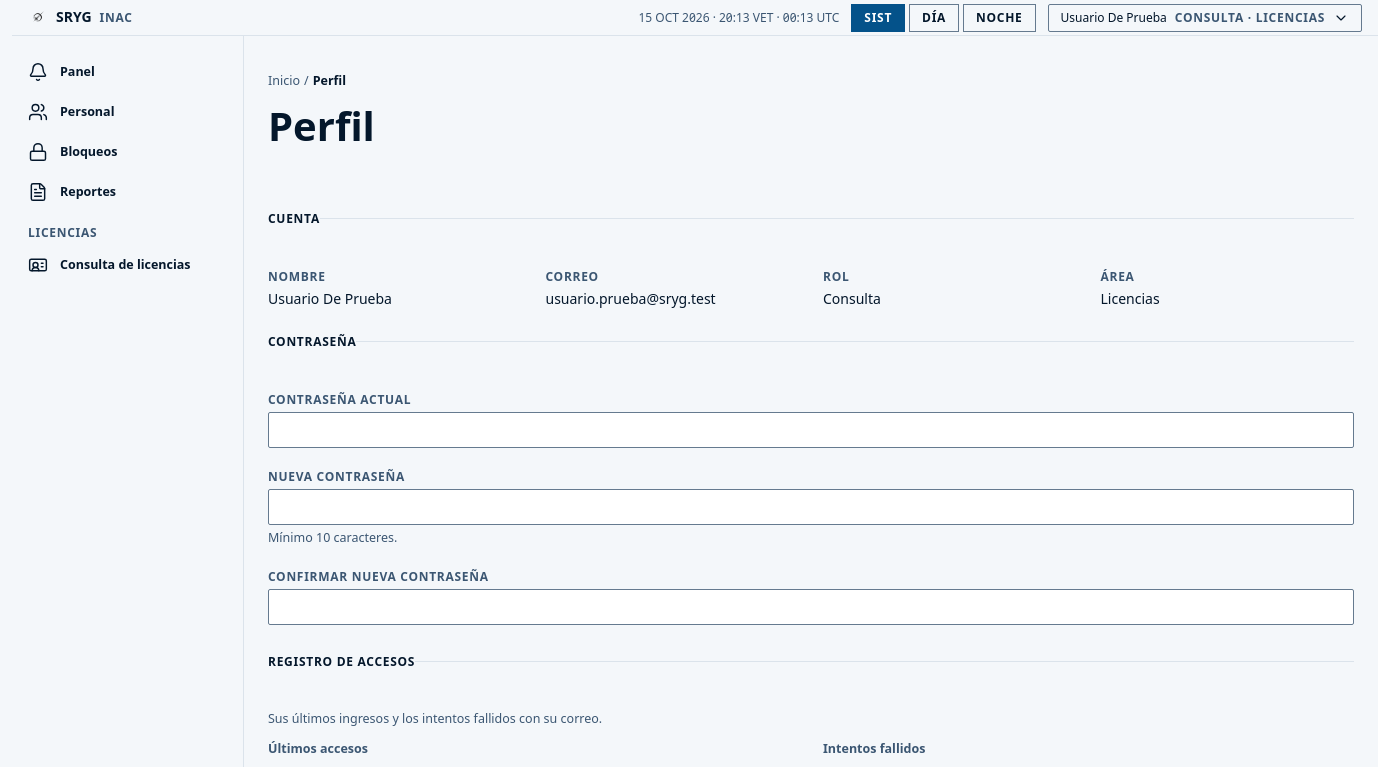
Scenario: Perfil (AUTH-08, D4, D23) › shows a wrong current password on its field, without signing out
Type "no-es-esta" into the password field labelled "Contraseña actual" at x=811, y=430, box [268,412,1354,448]
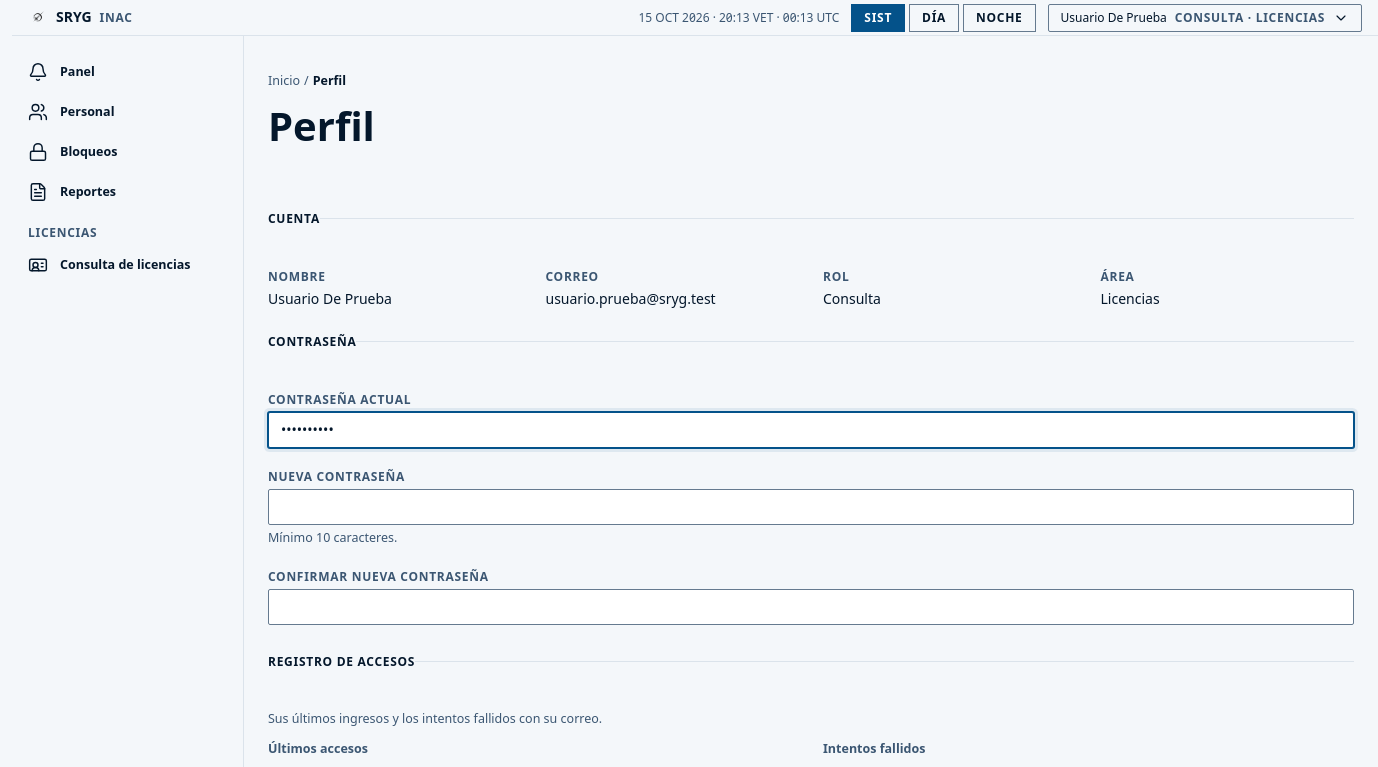
Type "una-clave-larga" into the password field labelled "Nueva contraseña" at x=811, y=507, box [268,489,1354,525]
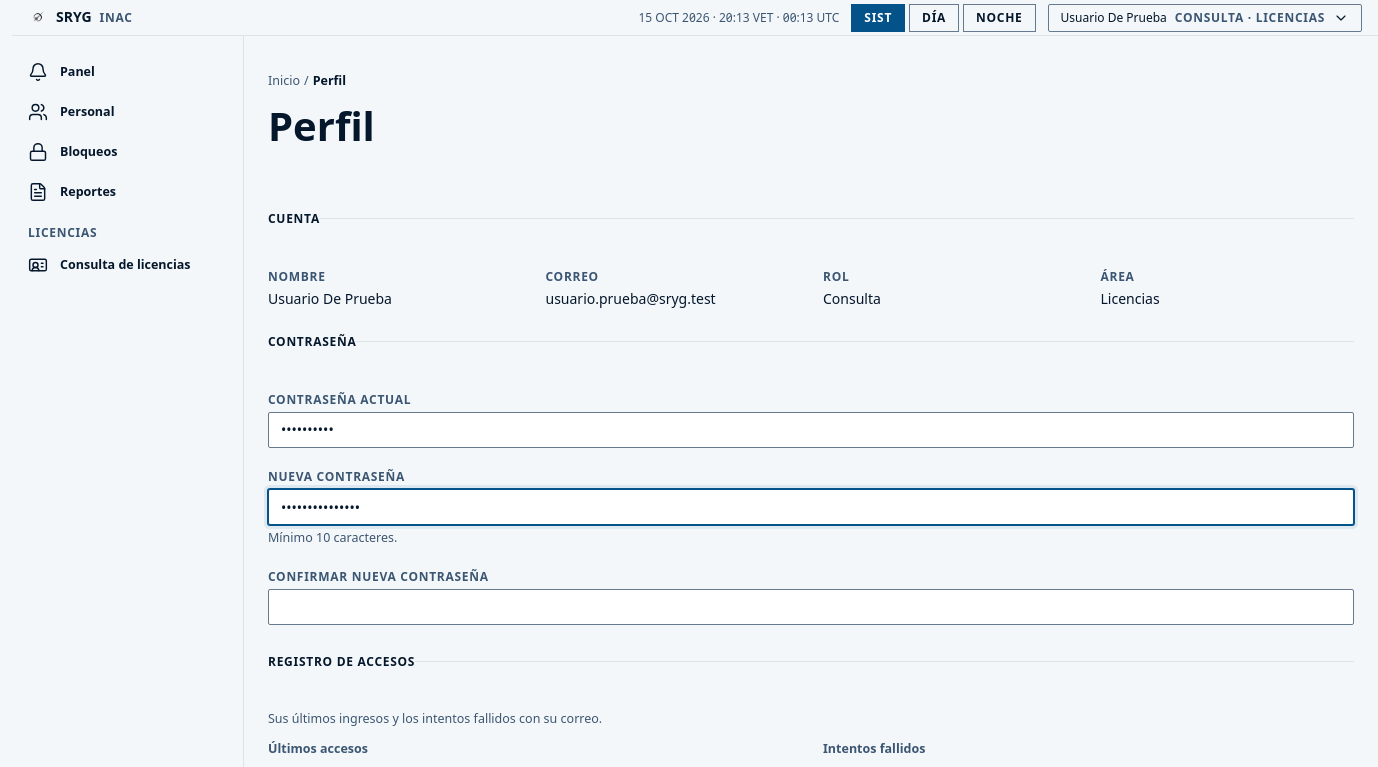
Type "una-clave-larga" into the password field labelled "Confirmar nueva contraseña" at x=811, y=607, box [268,589,1354,625]
(page scrolled)
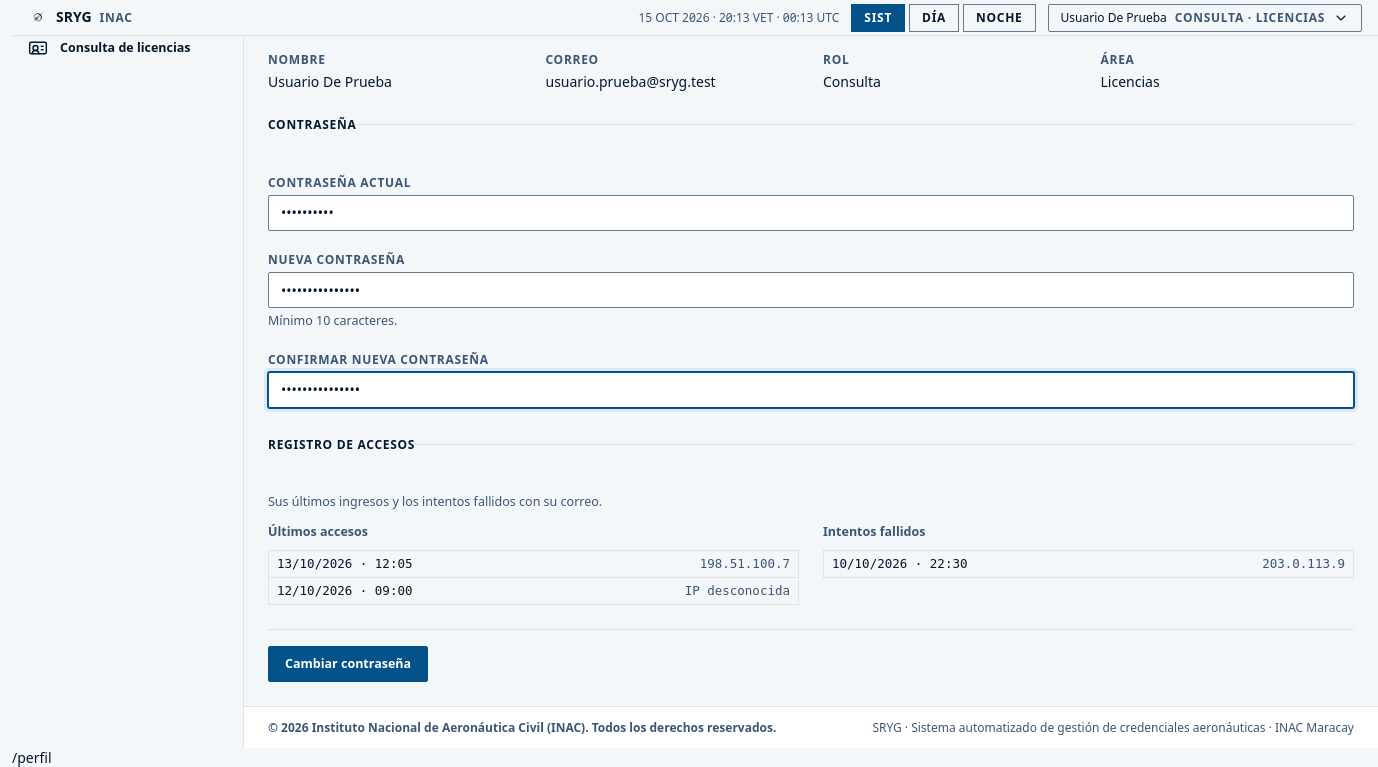
Click the button "Cambiar contraseña" at x=348, y=664, box [268,646,428,682]
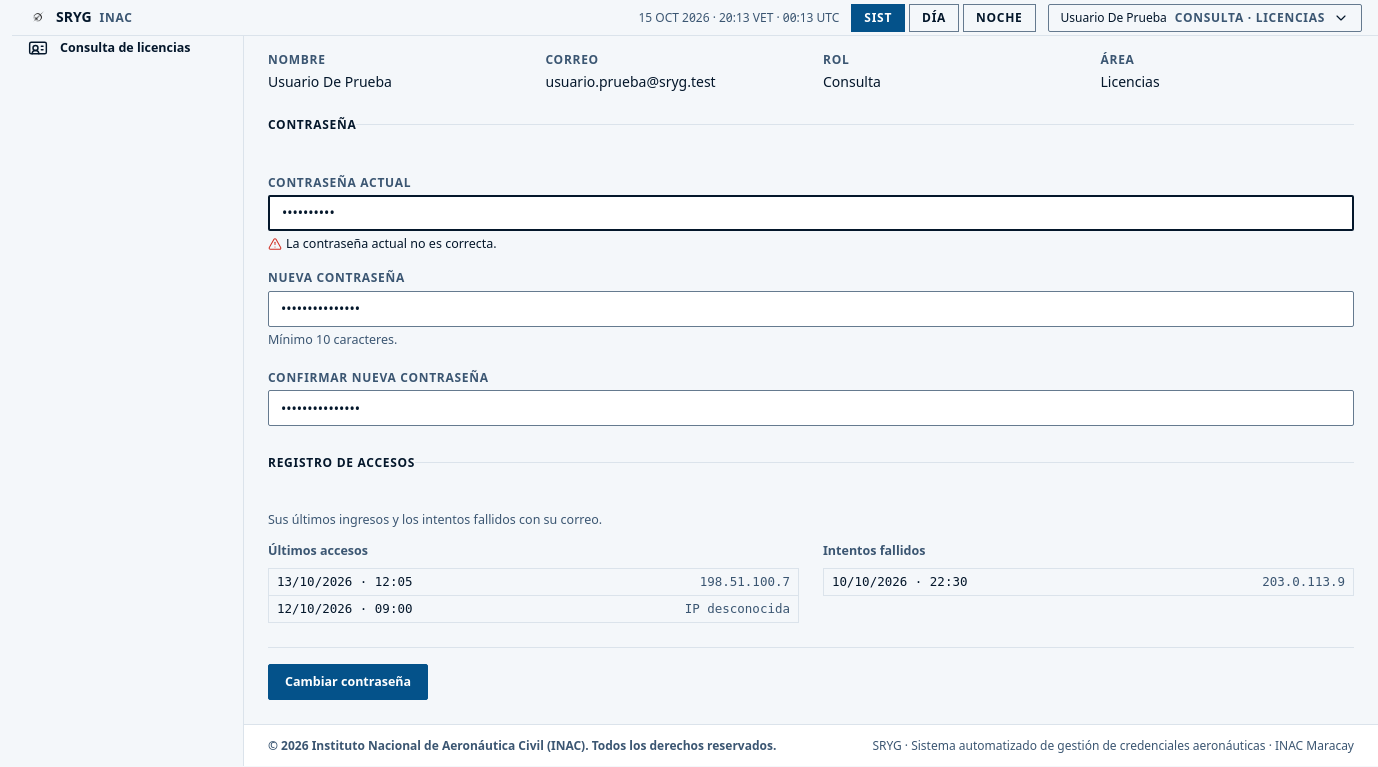
Check: the text "La contraseña actual no es correcta." is shown, box [268,235,497,252]
